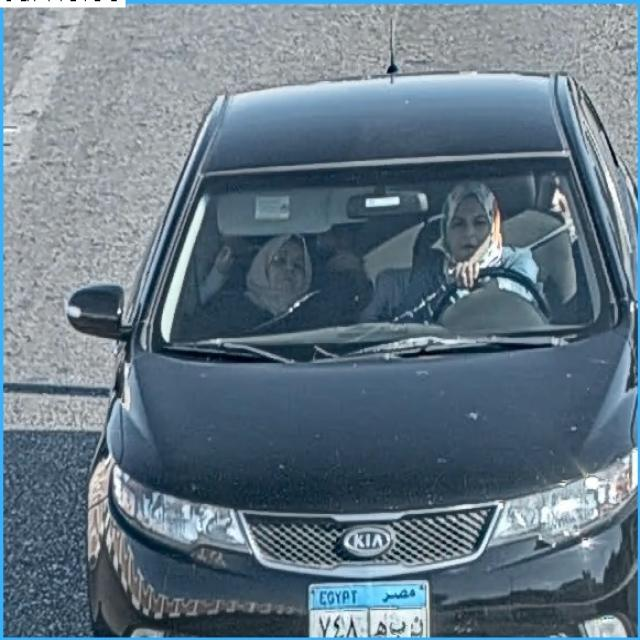windshield: (158, 176, 606, 350)
